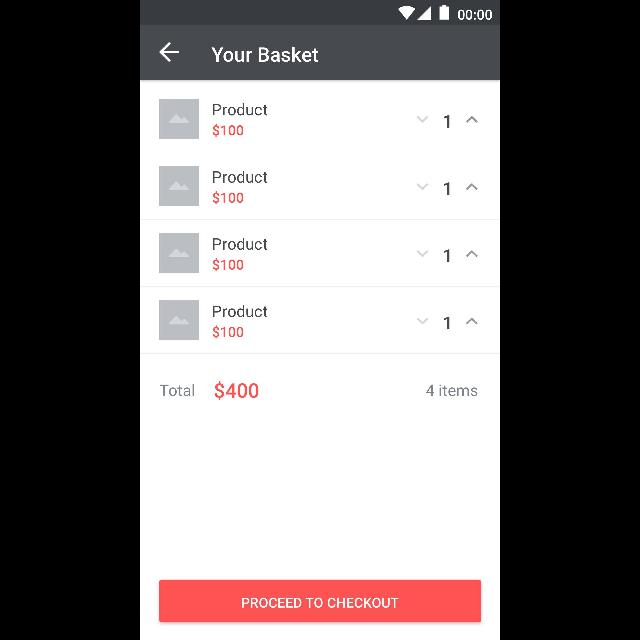icon: (160, 42, 180, 62), (416, 250, 429, 258), (466, 116, 478, 124), (466, 183, 478, 191), (466, 250, 478, 258), (417, 183, 429, 190), (416, 116, 429, 122), (416, 318, 428, 324), (466, 318, 478, 324)
image: (159, 99, 199, 139), (160, 166, 200, 206), (159, 233, 199, 273), (159, 300, 199, 340)
text: (211, 48, 319, 62), (215, 381, 259, 399), (212, 170, 268, 183), (212, 104, 268, 116), (212, 238, 268, 250), (212, 305, 268, 317), (426, 384, 478, 396), (212, 325, 244, 339), (160, 384, 196, 396), (213, 258, 243, 272), (212, 124, 244, 136), (212, 192, 244, 204), (444, 114, 450, 128), (444, 182, 450, 196), (444, 316, 450, 329), (444, 250, 450, 262)
textbutton: (159, 580, 481, 622)
uppertaskbar: (140, 1, 500, 25)
